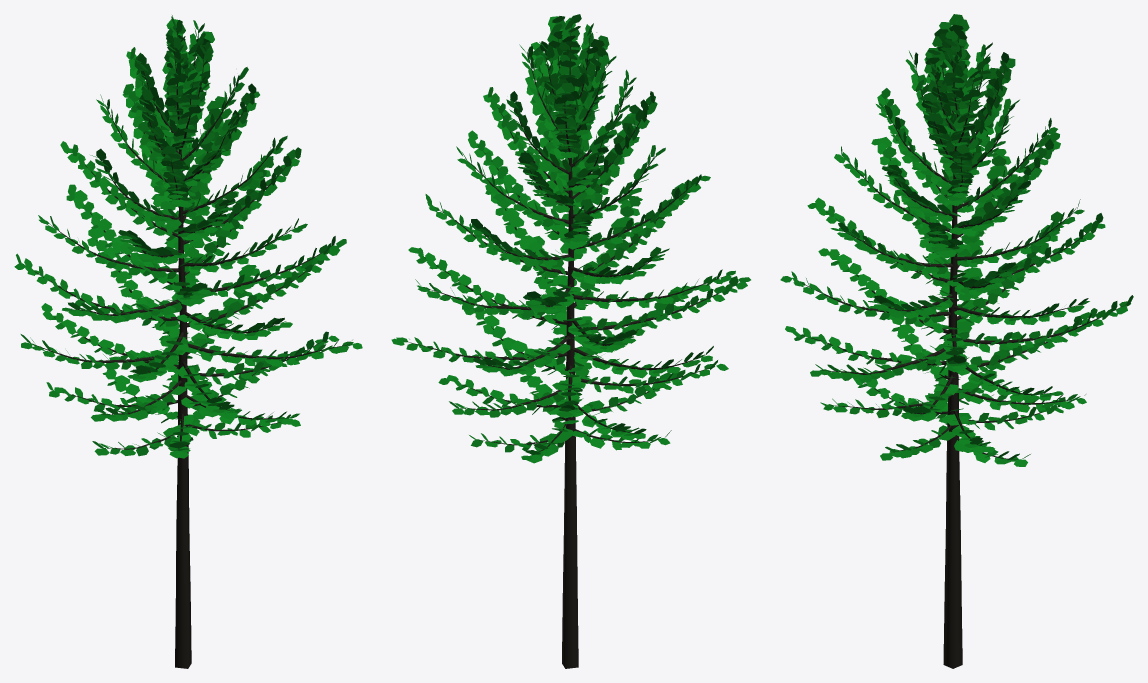
File: tree-v3.glb
3 renders of one model, left to right at view 1: azimuth 30°, elevation 25°; view 2: azimuth 150°, elevation 25°; view 3: azimuth 270°, elevation 25°, orthographic.
Visible parts, largest first — view 1: leaves, tree; view 2: leaves, tree; view 3: leaves, tree.
Part boxes in pixels (x1,y1,x2,y2): leaves: (14,15,362,458); tree: (23,28,351,668); leaves: (391,14,750,463); tree: (406,27,738,668); leaves: (780,14,1133,466); tree: (798,41,1122,668).
Bounding box in the file's own units: 8.75 × 17.58 × 8.71.
2 materials, 2 textured.
